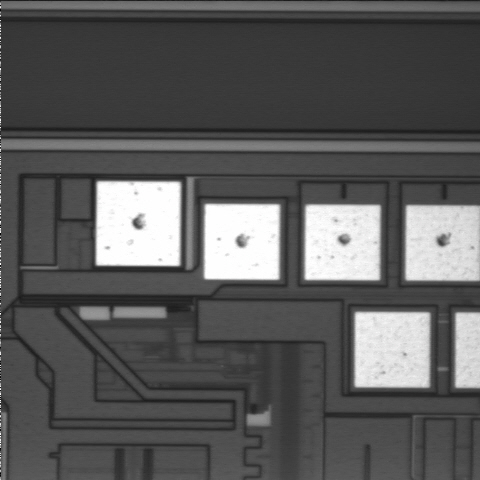pad: (96, 181, 181, 266), (204, 204, 280, 280), (305, 205, 380, 280), (355, 312, 430, 387)
